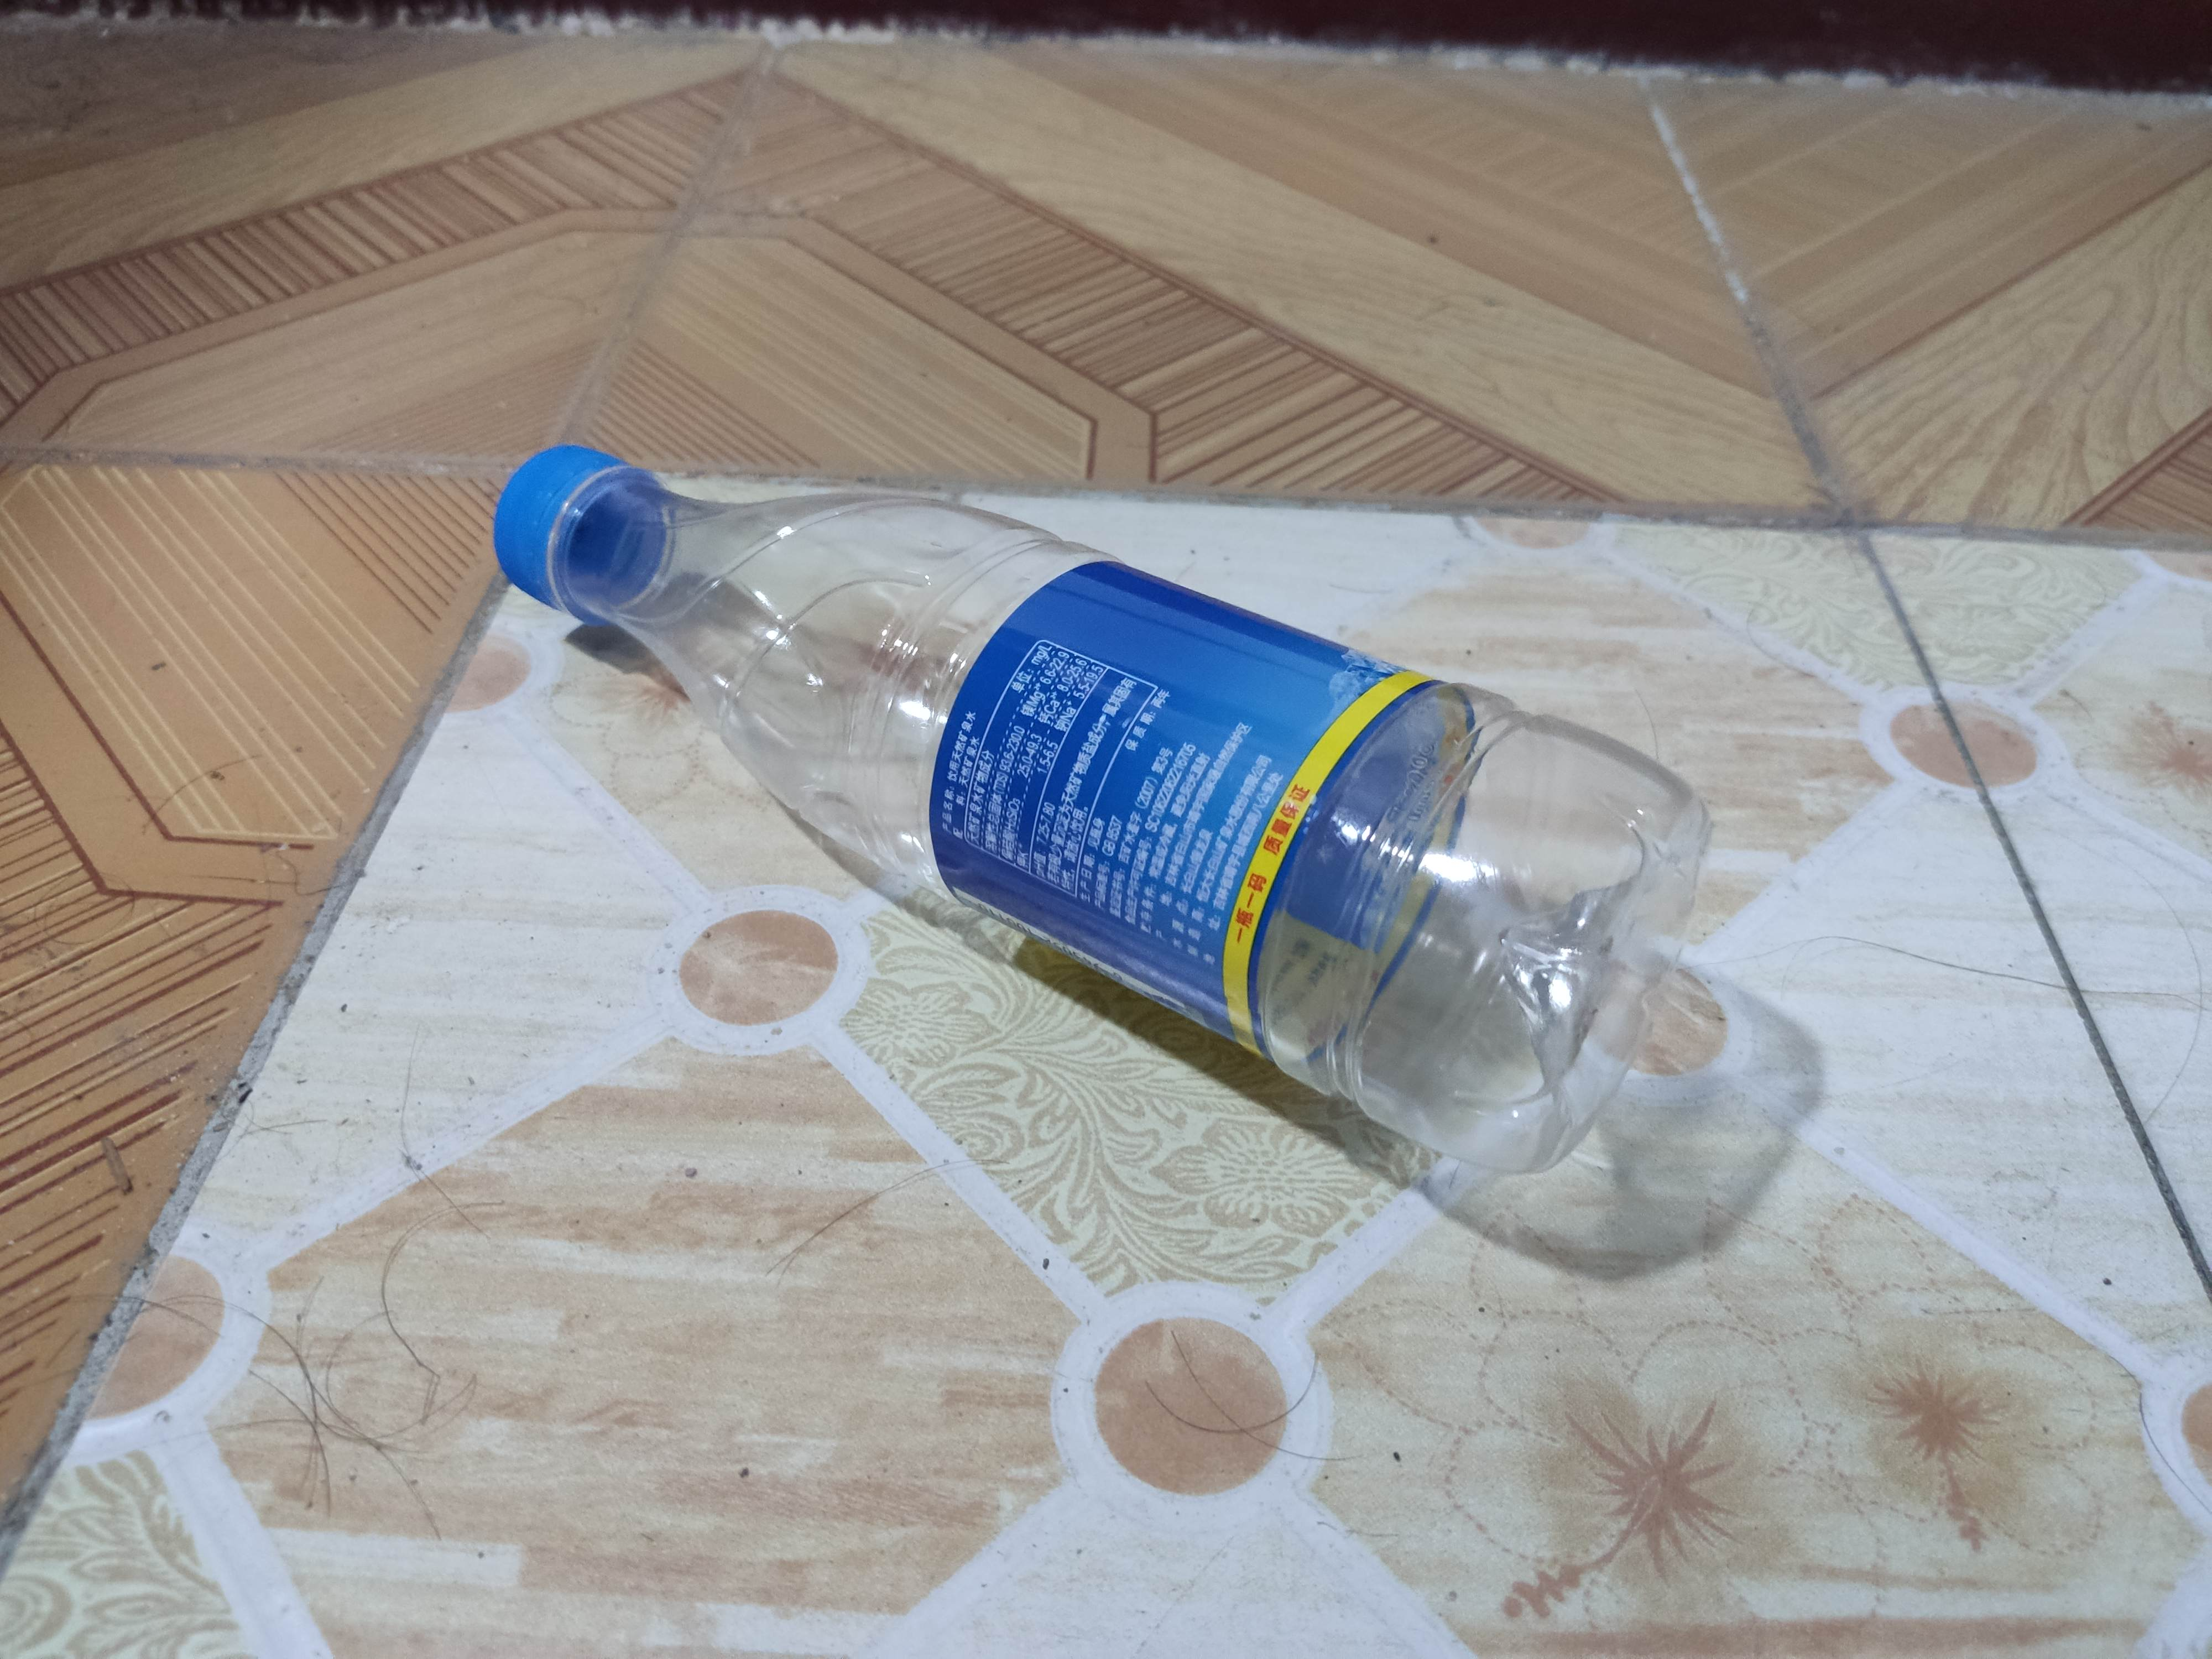Plastic Bottle: (488, 436, 1726, 1190)
